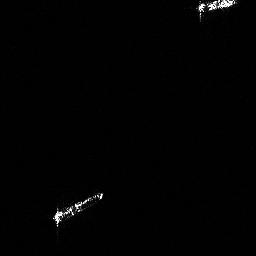ship: (48, 187, 106, 229), (192, 1, 241, 23)
